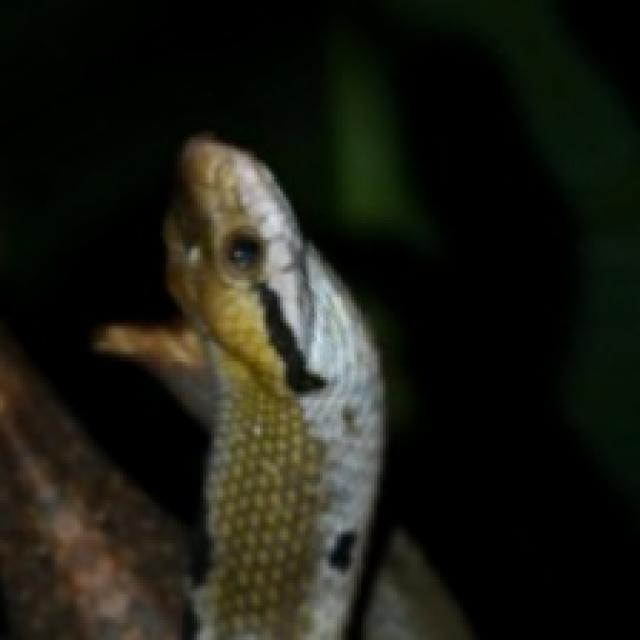dog-toothed cat snake: (94, 137, 380, 637)
